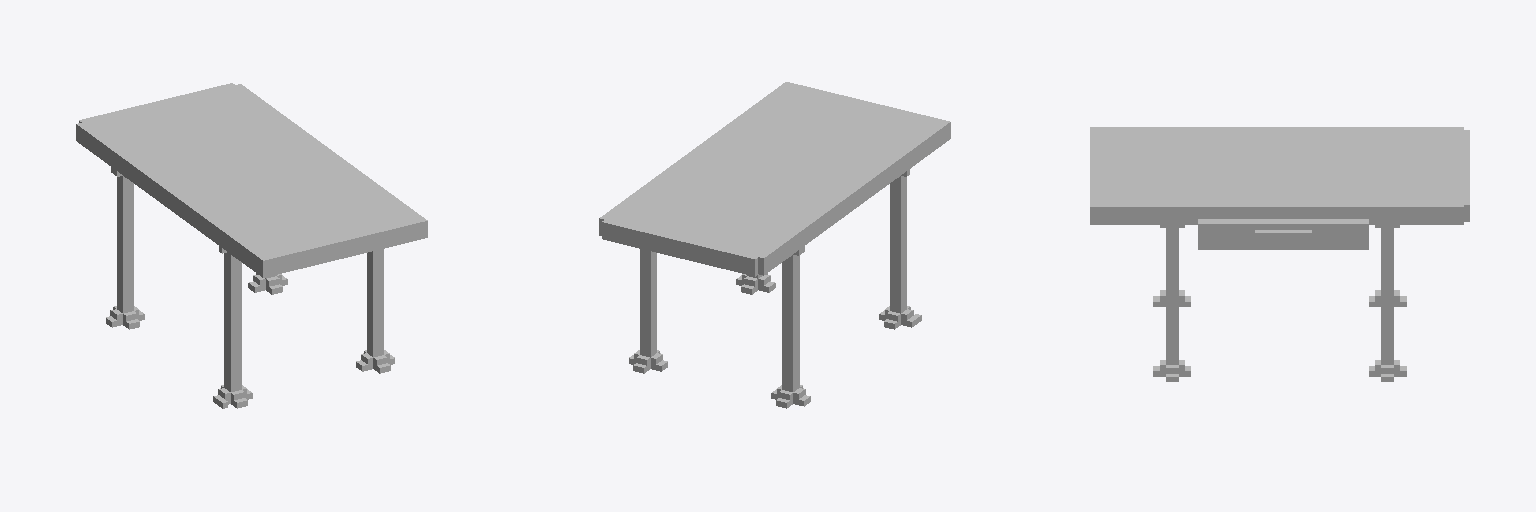
The model's file is vzrosliyStol.obj.
3 renders of one model, left to right at view 1: azimuth 30°, elevation 25°; view 2: azimuth 150°, elevation 25°; view 3: azimuth 270°, elevation 25°, orthographic.
Visible parts, largest first — view 1: object 1; view 2: object 1; view 3: object 1.
Part boxes in pixels (x1,y1,x2,y2): object 1: (76,83,427,408); object 1: (599,82,950,408); object 1: (1090,127,1469,381).
Bounding box in the file's own units: 3.4 × 3 × 6.